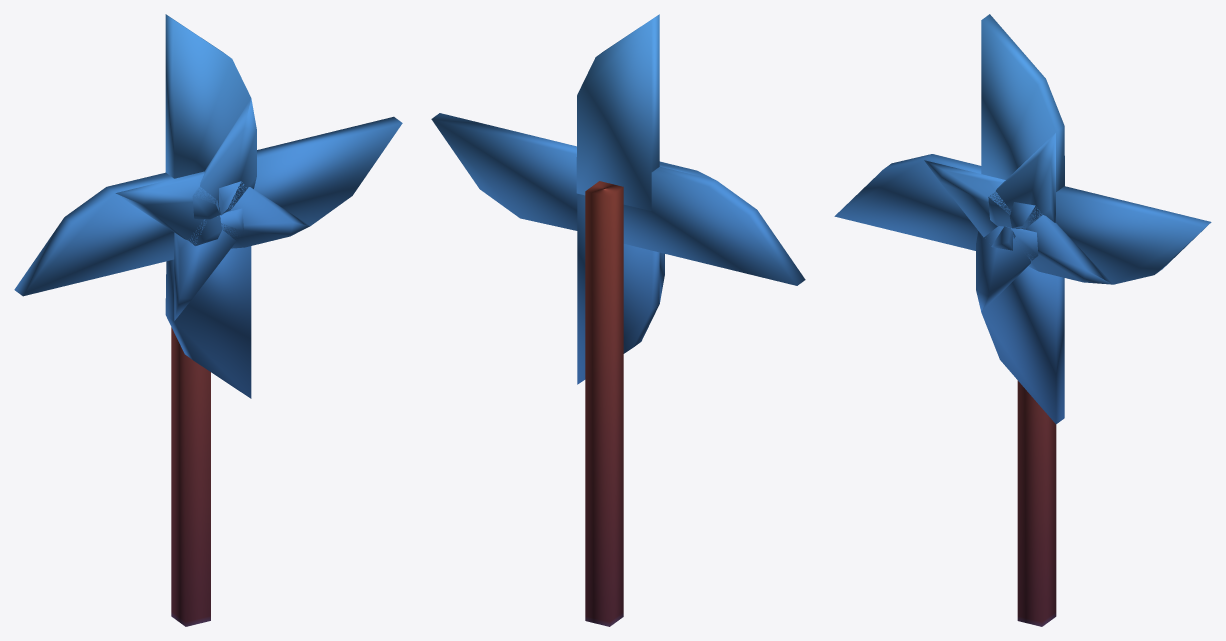
File: PinWheel_Blue.fbx
3 renders of one model, left to right at view 1: azimuth 30°, elevation 25°; view 2: azimuth 150°, elevation 25°; view 3: azimuth 330°, elevation 25°, orthographic. The views are drawn at different scales.
Parts seen in each view (by area): view 1: PinWheel_Blue.001, PinWheel_Blue; view 2: PinWheel_Blue.001, PinWheel_Blue; view 3: PinWheel_Blue.001, PinWheel_Blue.
Part boxes in pixels (x1,y1,x2,y2): PinWheel_Blue.001: [14, 14, 402, 398]; PinWheel_Blue: [171, 327, 210, 626]; PinWheel_Blue.001: [431, 14, 805, 384]; PinWheel_Blue: [585, 181, 623, 626]; PinWheel_Blue.001: [834, 14, 1211, 424]; PinWheel_Blue: [1017, 380, 1056, 626].
Bounding box in the file's own units: 986 × 1543 × 168.
